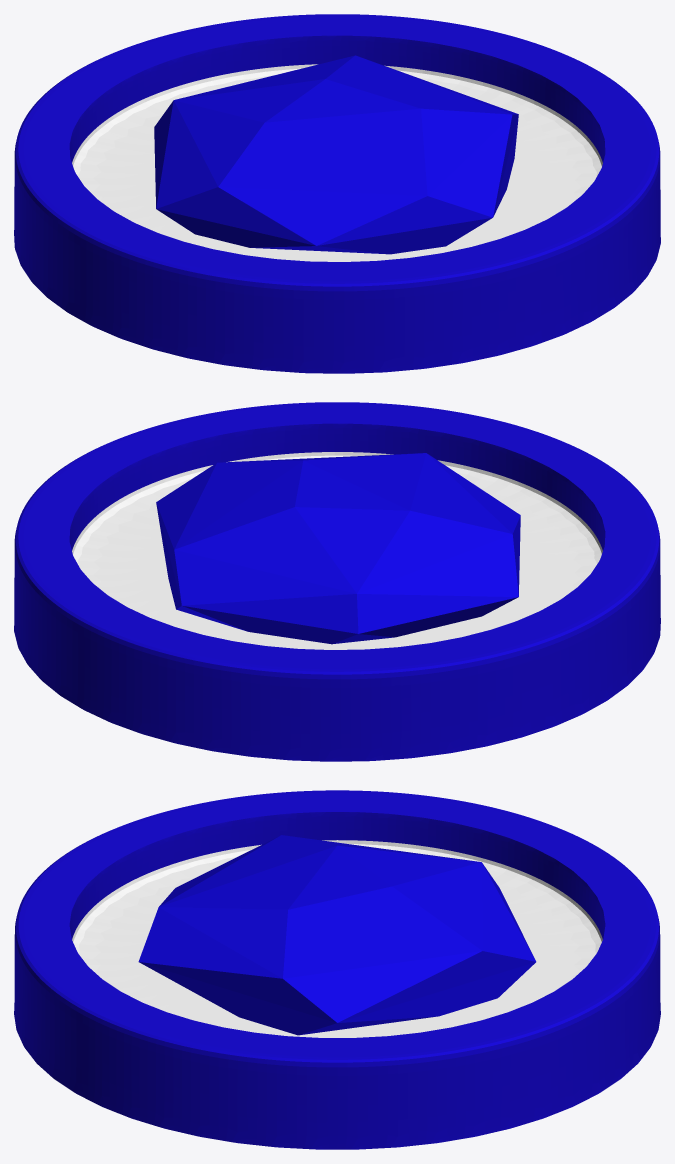
File: BlueToken.fbx
3 renders of one model, top to bottom at view 1: azimuth 30°, elevation 25°; view 2: azimuth 150°, elevation 25°; view 3: azimuth 270°, elevation 25°, orthographic.
Visible parts, largest first — view 1: 원형, Icosphere; view 2: 원형, Icosphere; view 3: 원형, Icosphere.
Boxes of the visible parts, x1=… form: 원형: x1=14, y1=14, x2=660, y2=373; Icosphere: x1=154, y1=55, x2=518, y2=254; 원형: x1=14, y1=402, x2=660, y2=761; Icosphere: x1=156, y1=453, x2=520, y2=644; 원형: x1=14, y1=790, x2=660, y2=1149; Icosphere: x1=138, y1=835, x2=536, y2=1035.
Size of the model in its own units: 200 by 45.74 by 200.
